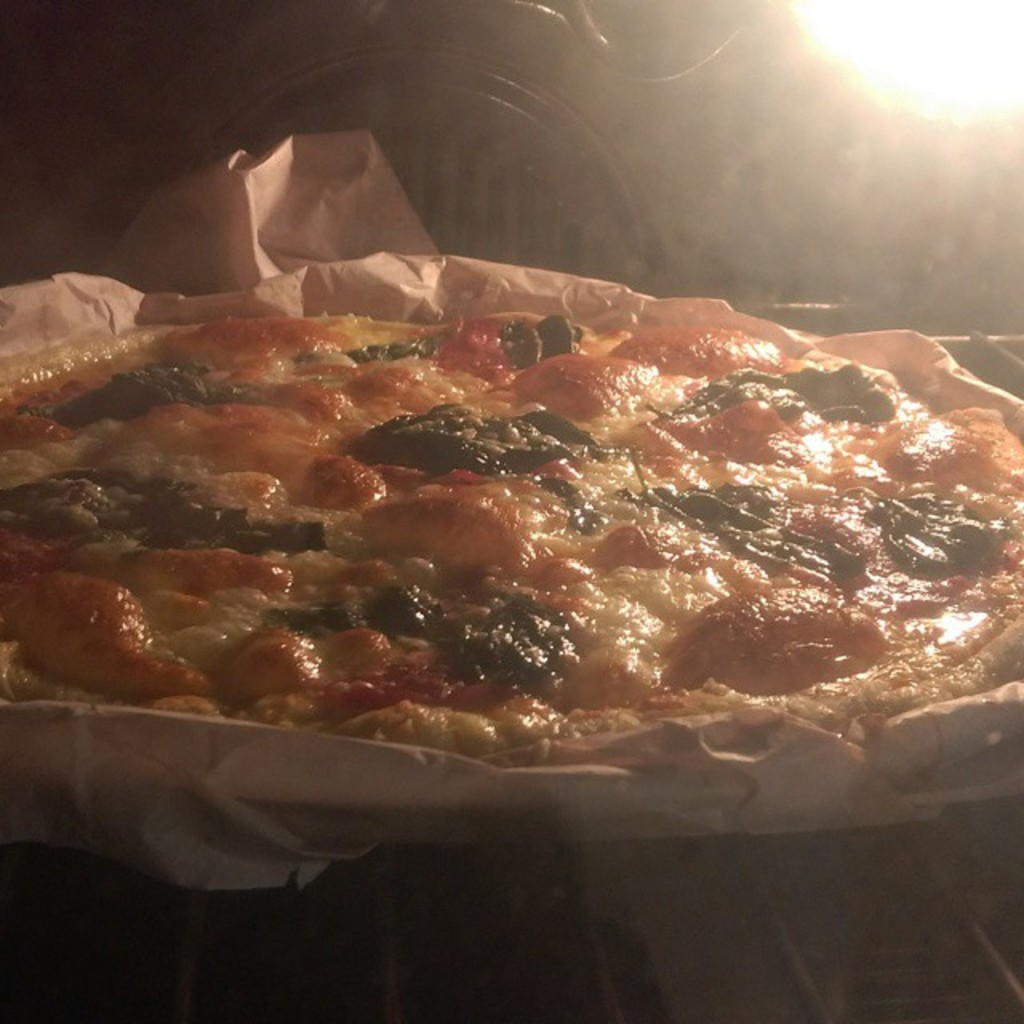Pizza: (0, 299, 1022, 764)
